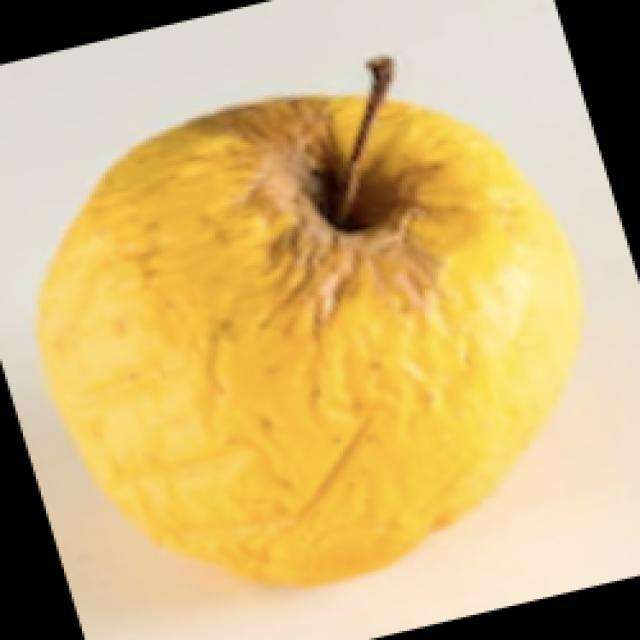Rotten: (63, 82, 567, 578)
